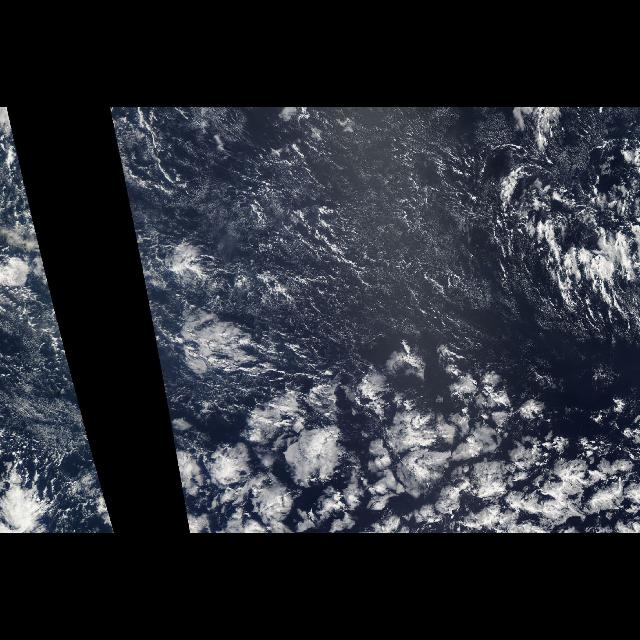Flower: (163, 358, 639, 534)
Gravel: (160, 116, 516, 384)
Sugar: (205, 146, 503, 322)
